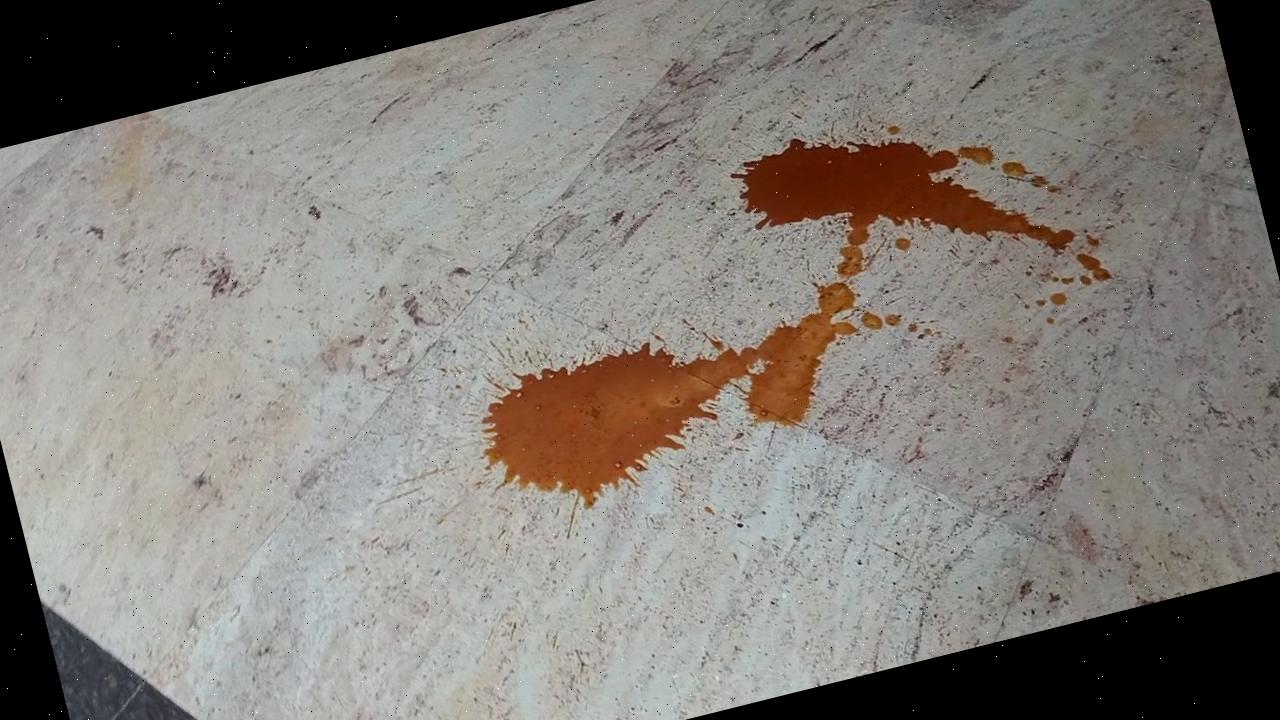dirty_floor: (436, 70, 1140, 524)
